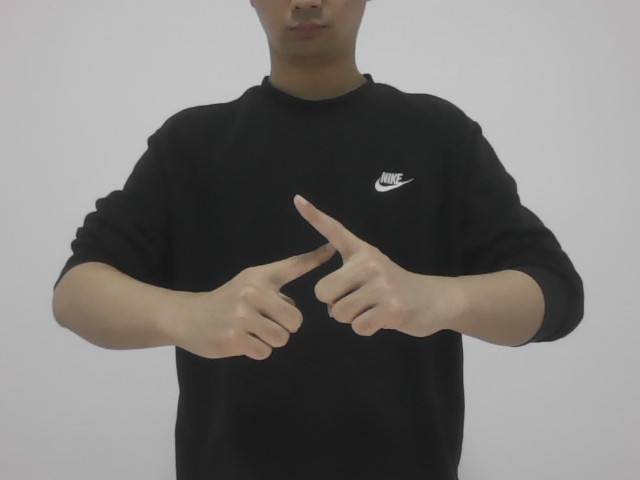peason: (202, 188, 419, 364)
